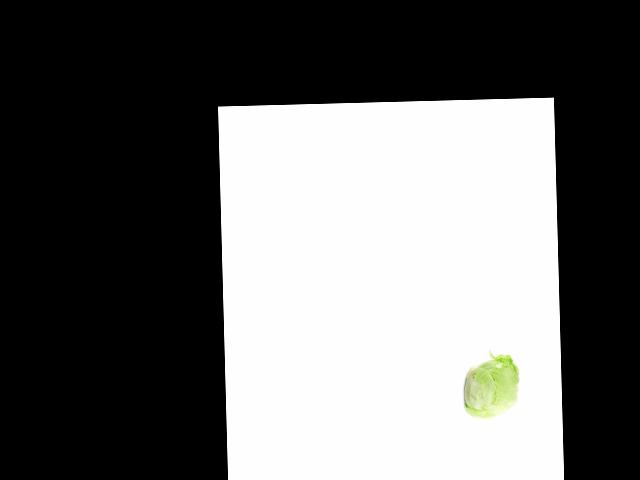lettuce: (460, 356, 523, 421)
